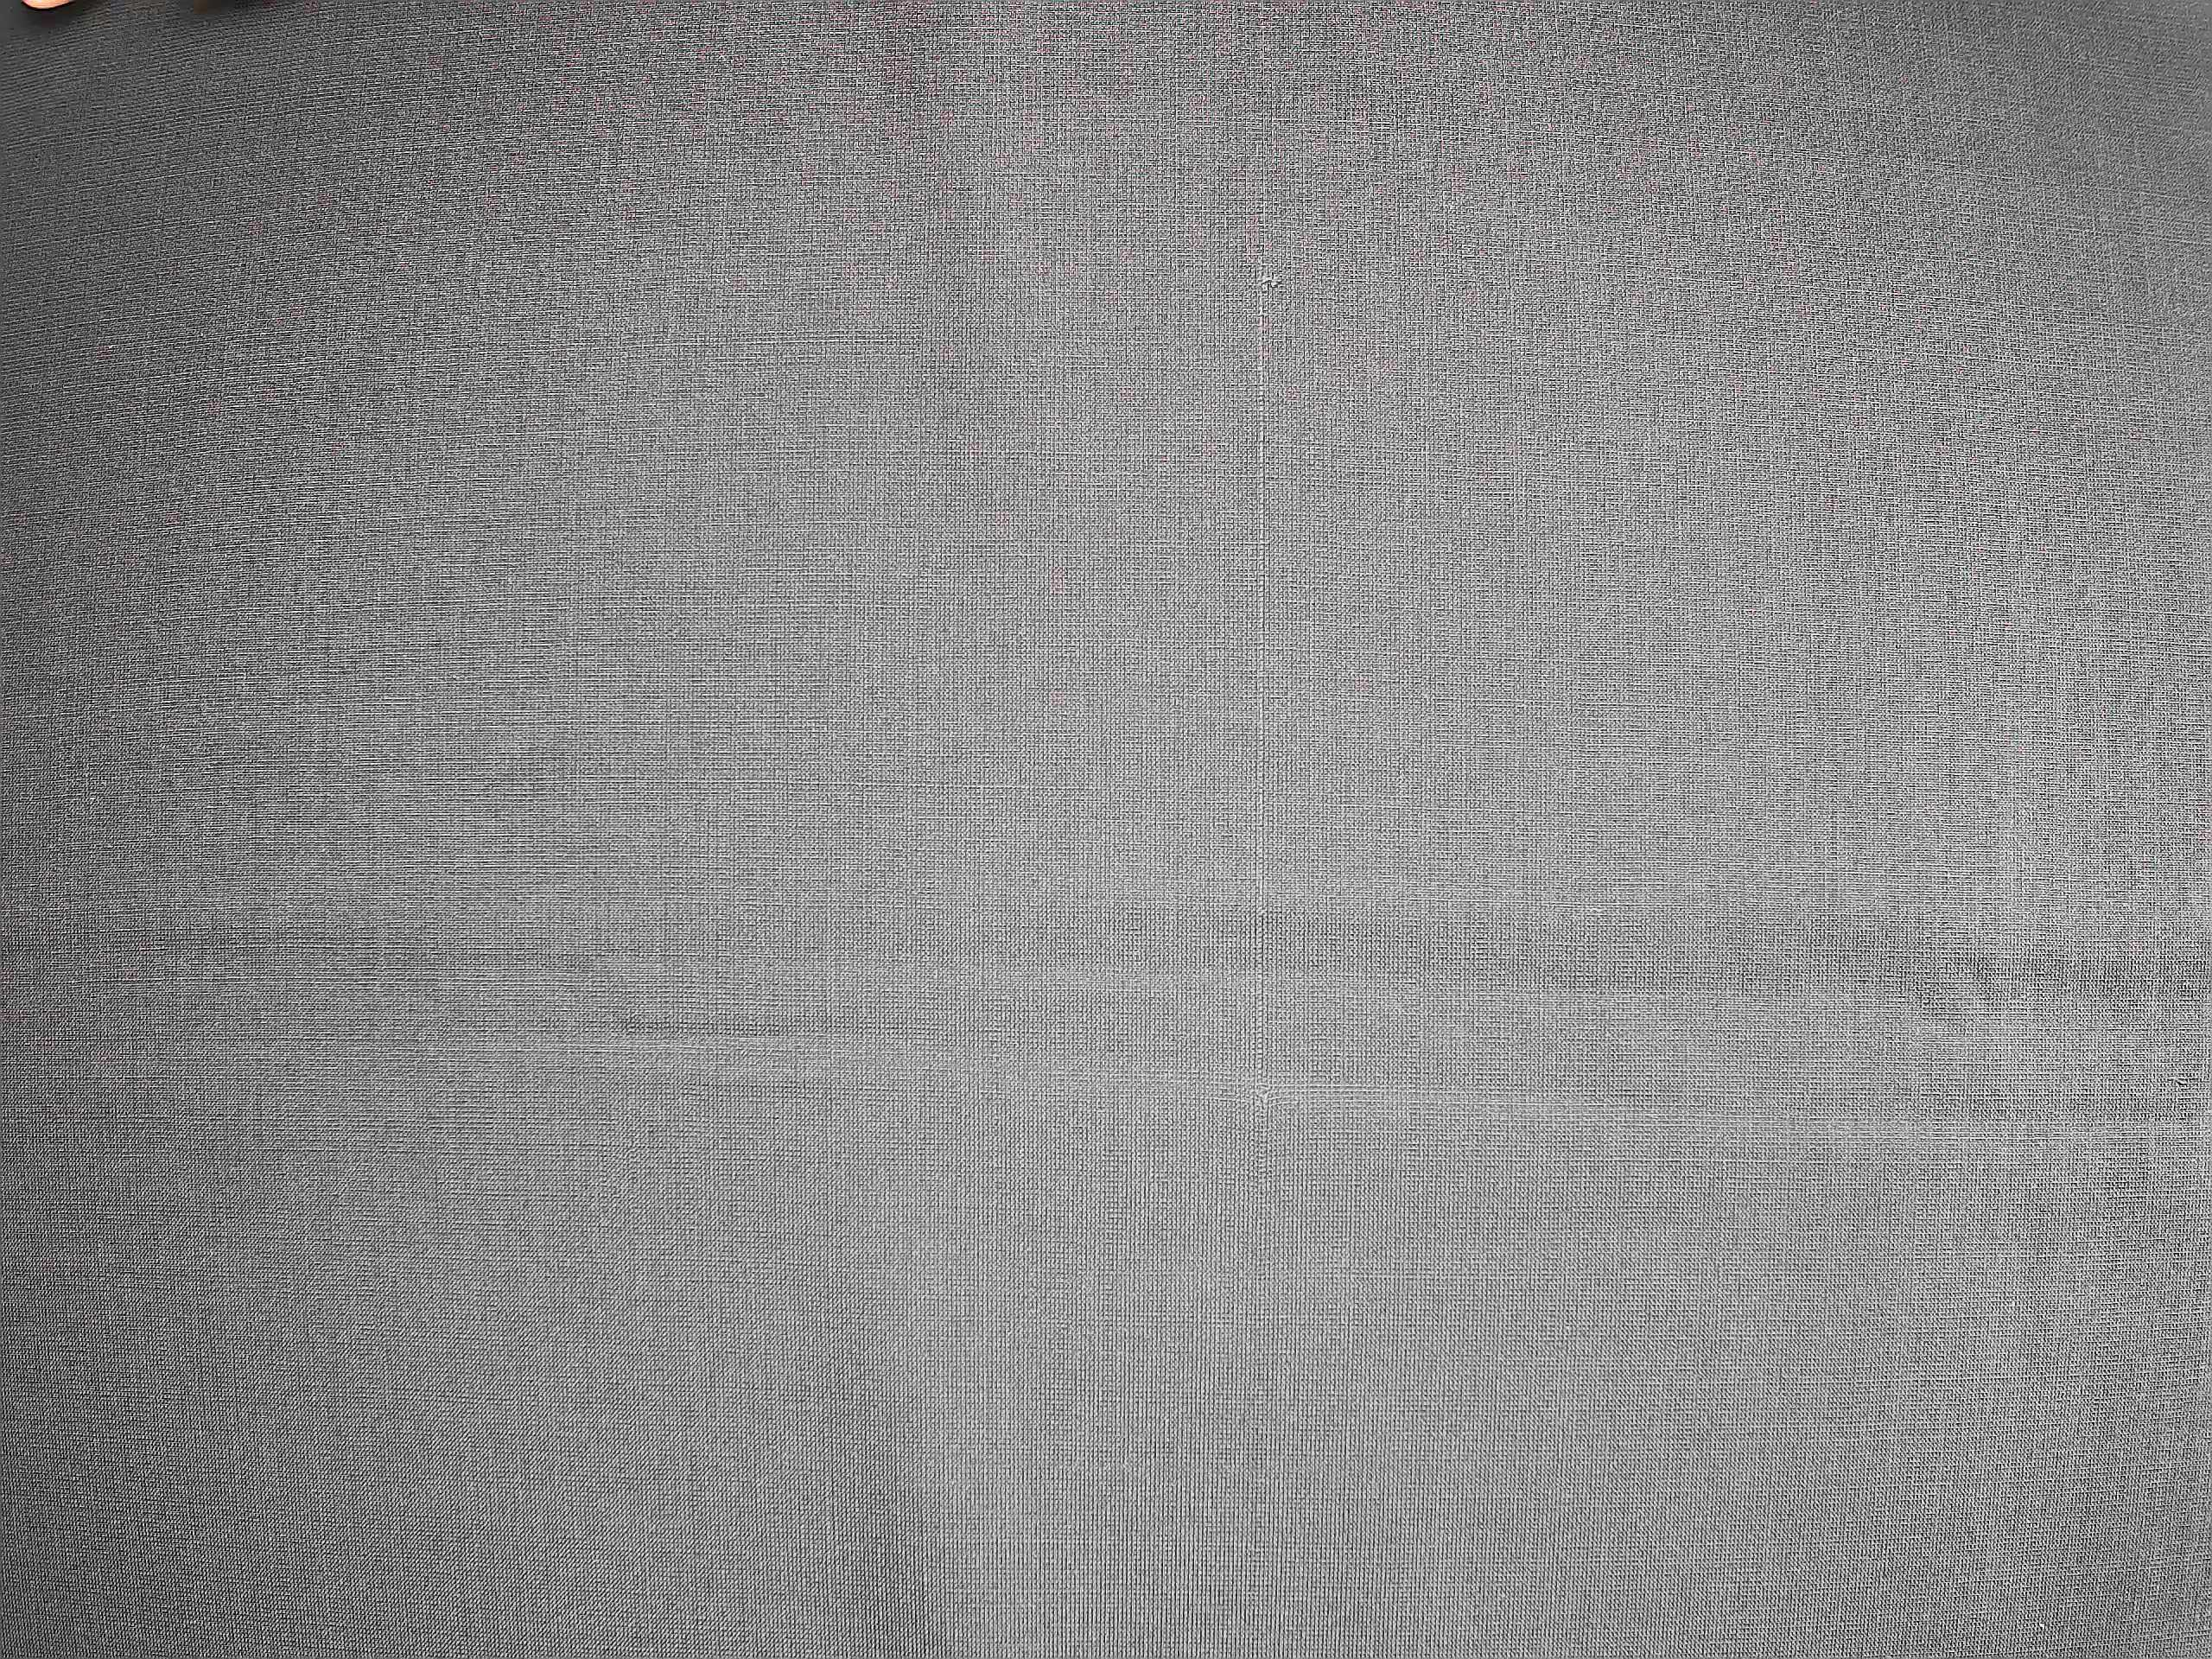hanging-warp: (1237, 244, 1289, 1119)
